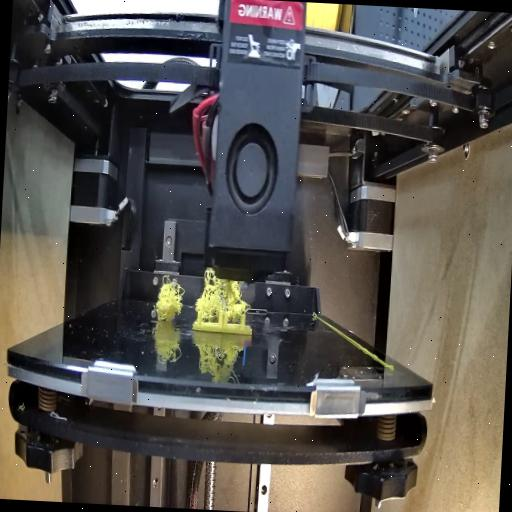spaghetti: (194, 264, 248, 322), (152, 278, 186, 324)
